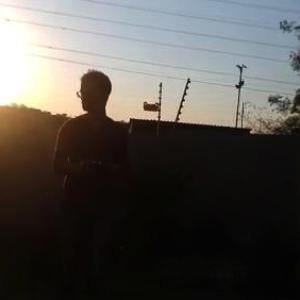follow: (49, 65, 134, 299)
